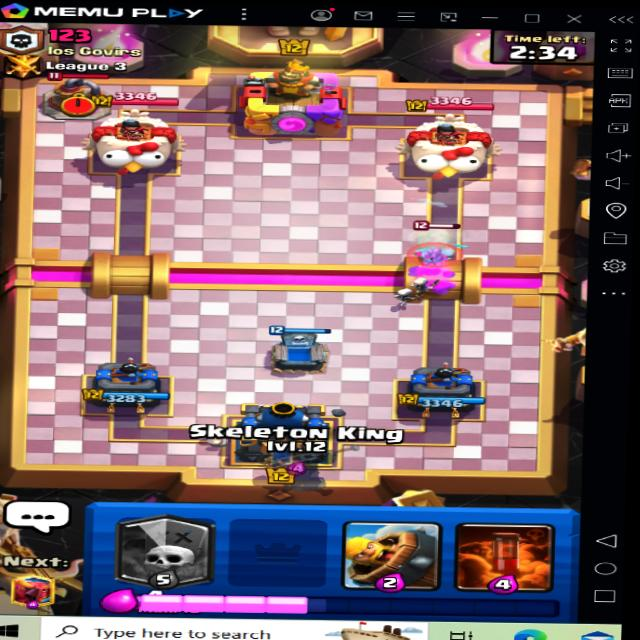Bandit: (400, 219, 473, 266)
Pump: (39, 68, 115, 121)
